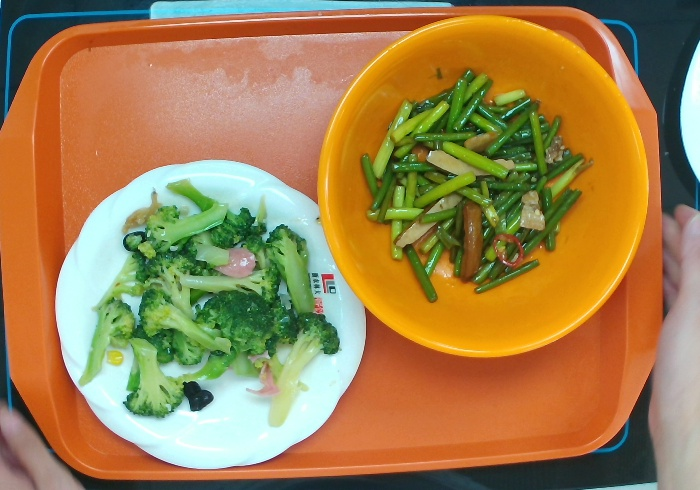ZNLD-Hua_Bian_Wan: (52, 157, 374, 472)
ZNLD-Ju_Se_Tang_Wan: (310, 9, 651, 368)
